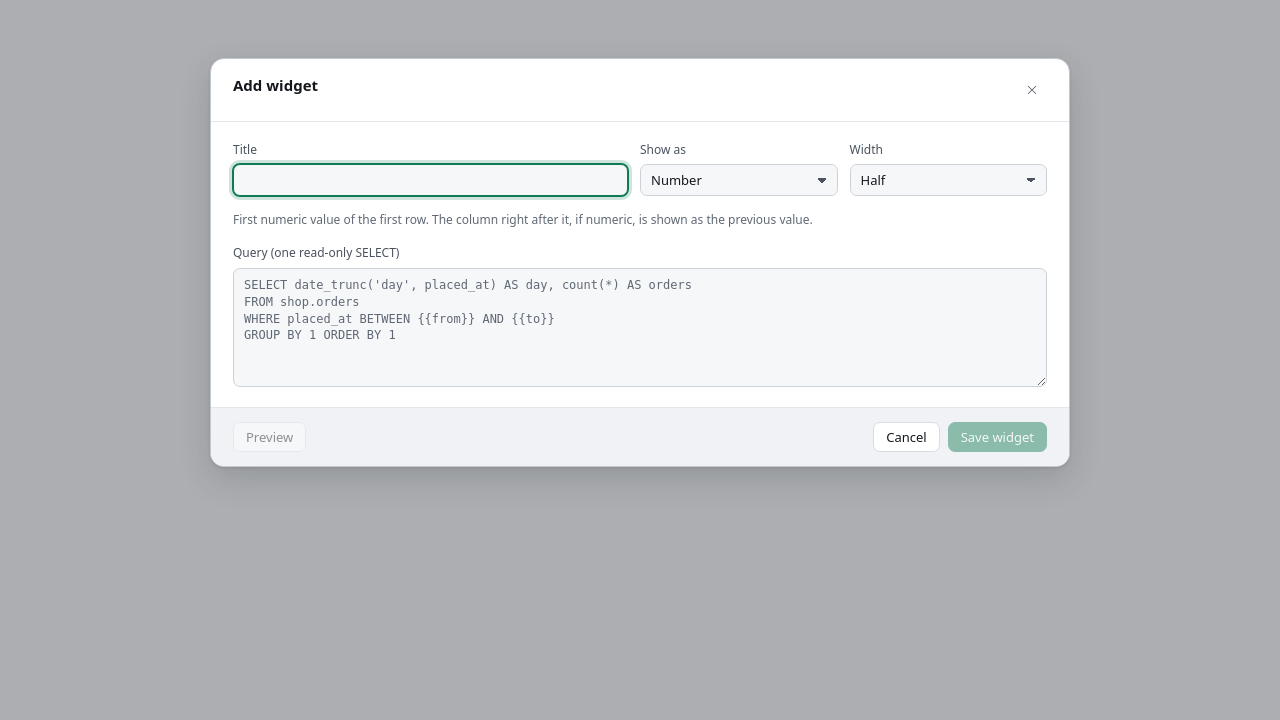
Test: WidgetEditor › explains how each kind reads the query result
The image size is (1280, 720).
Select "Line chart" in the dropdown labelled "Show as" at (739, 180), box [640,164,838,196]
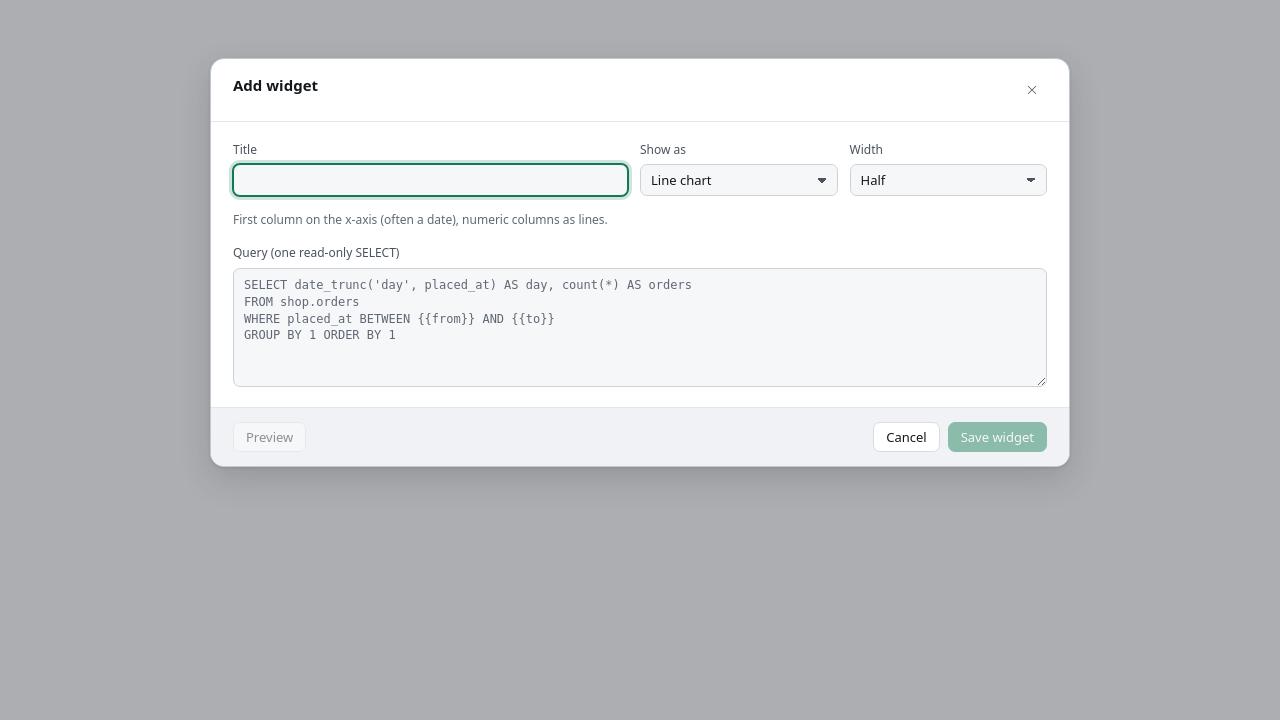
Expected: the text "numeric columns as lines" is shown, [233,211,608,228]
Select "Bar chart" in the dropdown labelled "Show as" at (739, 180), box [640,164,838,196]
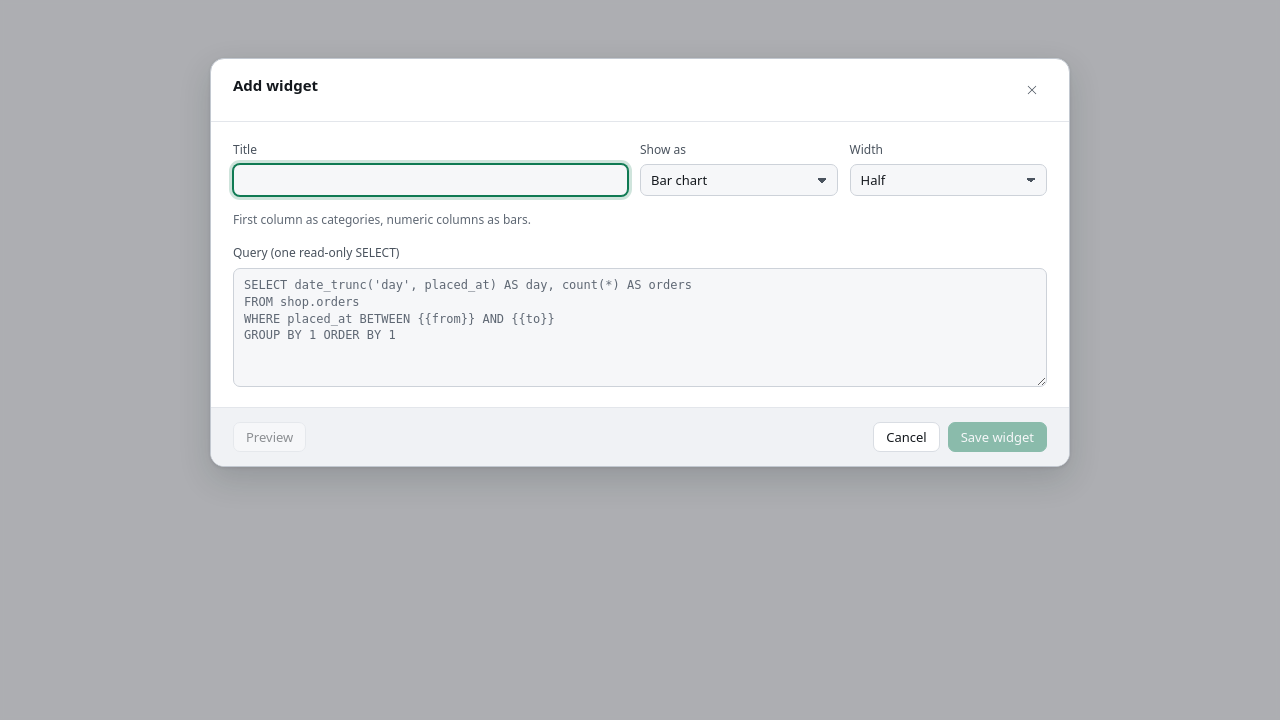
Expected: the text "First column as categories, numeric columns as bars." is shown, [233,211,531,228]
Select "Share (donut)" in the dropdown labelled "Show as" at (739, 180), box [640,164,838,196]
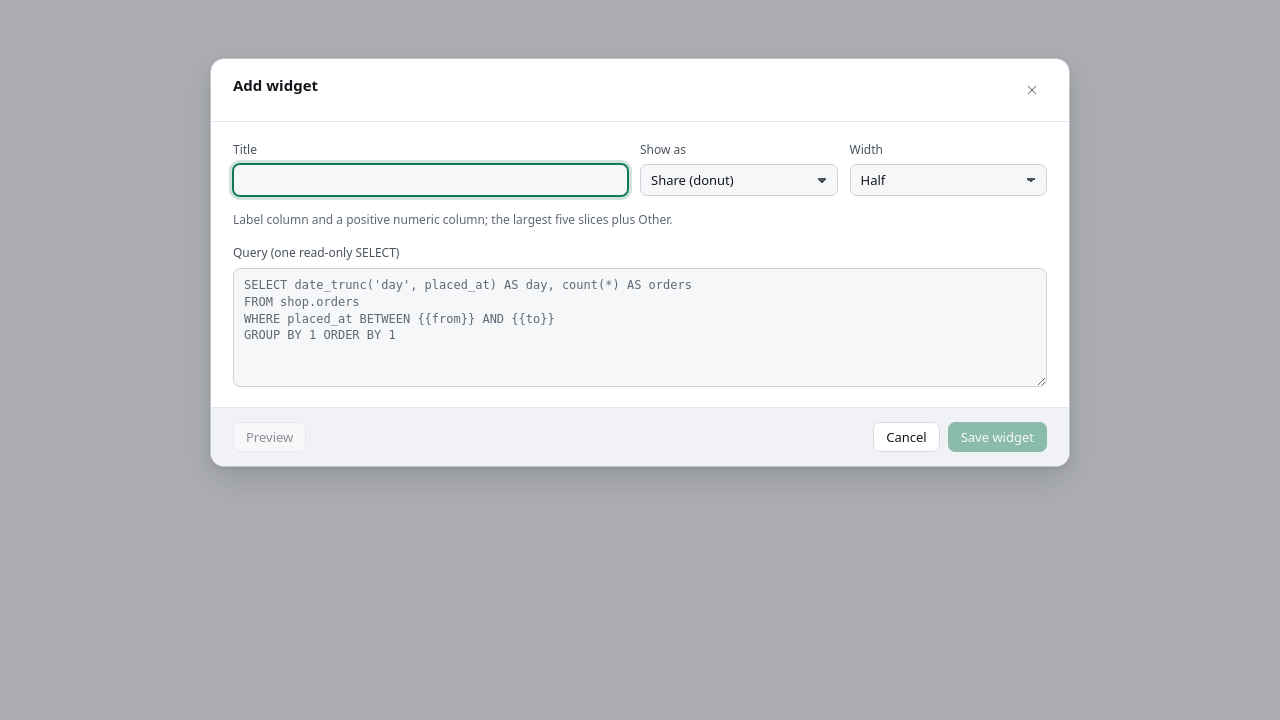
Expected: the text "largest five slices plus Other" is shown, [233,211,672,228]
Select "Table" in the dropdown labelled "Show as" at (739, 180), box [640,164,838,196]
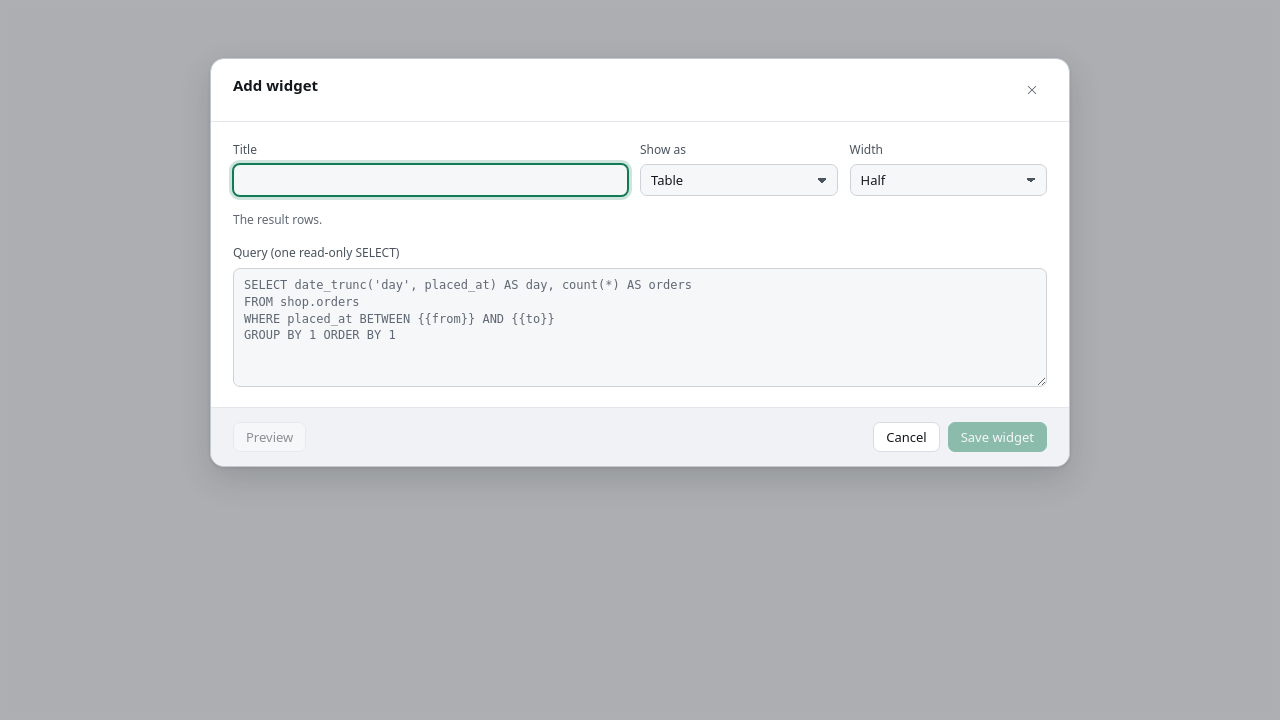
Expected: the text "The result rows." is shown, [233,211,322,228]
